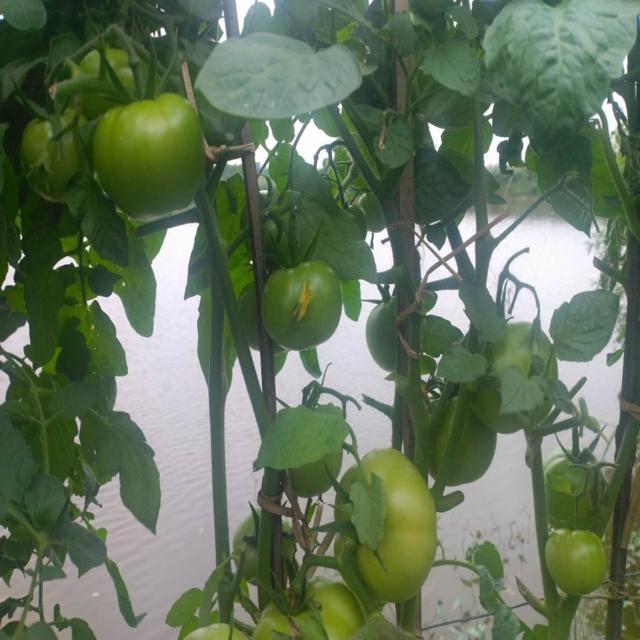tomato: (339, 458, 442, 601), (99, 97, 208, 213), (476, 324, 558, 433), (419, 393, 496, 483), (267, 263, 342, 350), (256, 582, 366, 640), (543, 449, 608, 531), (24, 111, 82, 201), (232, 513, 295, 582), (546, 529, 609, 597), (68, 50, 143, 104), (243, 192, 292, 263), (178, 627, 252, 640)
